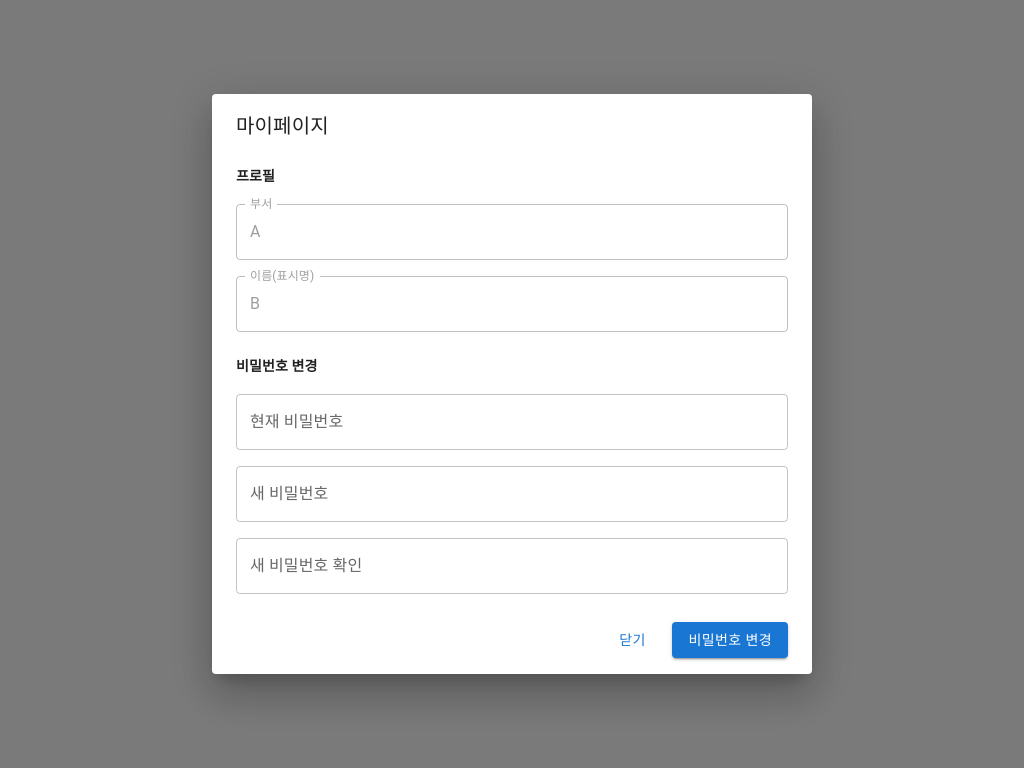
MyPageModal › client validation: mismatch confirm shows error
Type "old" into the password field labelled "현재 비밀번호" at (512, 422), box [236,394,788,450]
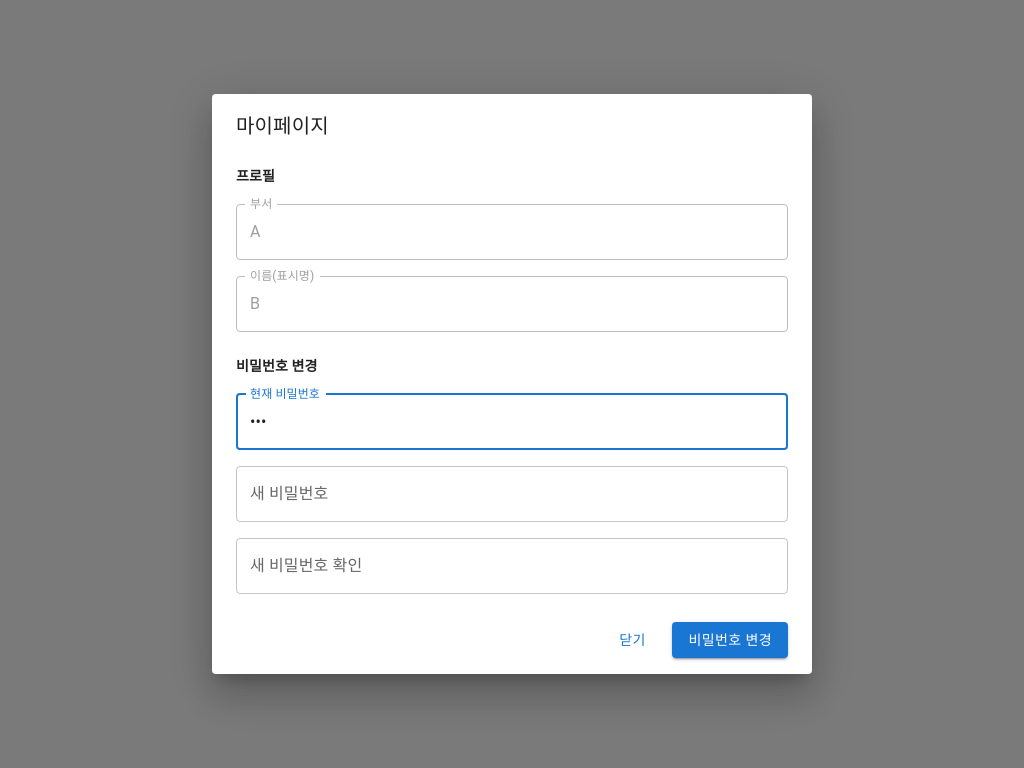
Type "new1" into the password field labelled "새 비밀번호" at (512, 494), box [236,466,788,522]
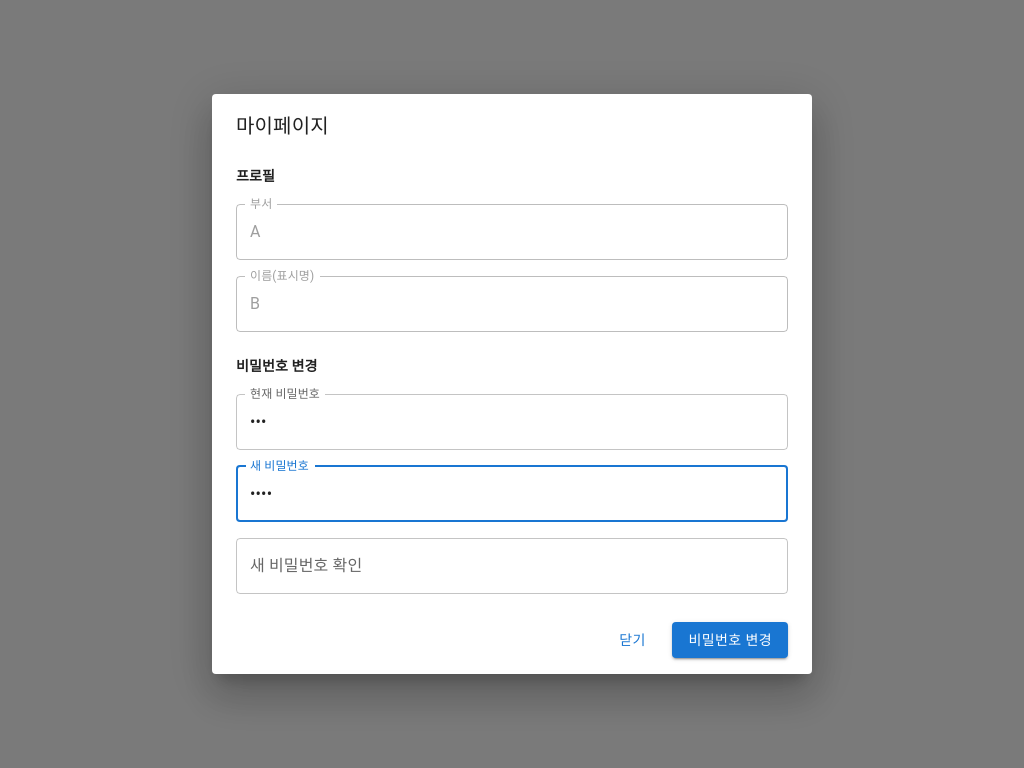
Type "new2" into the password field labelled "새 비밀번호 확인" at (512, 566), box [236,538,788,594]
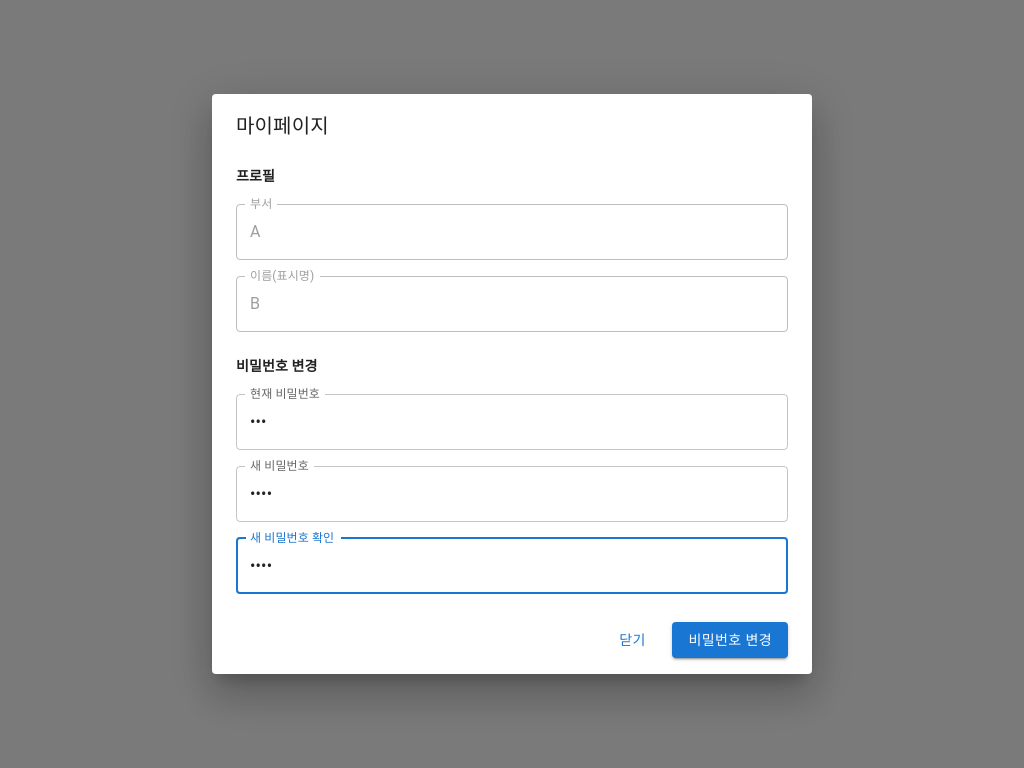
Click the button "비밀번호 변경" at (730, 640), box [672,622,788,658]
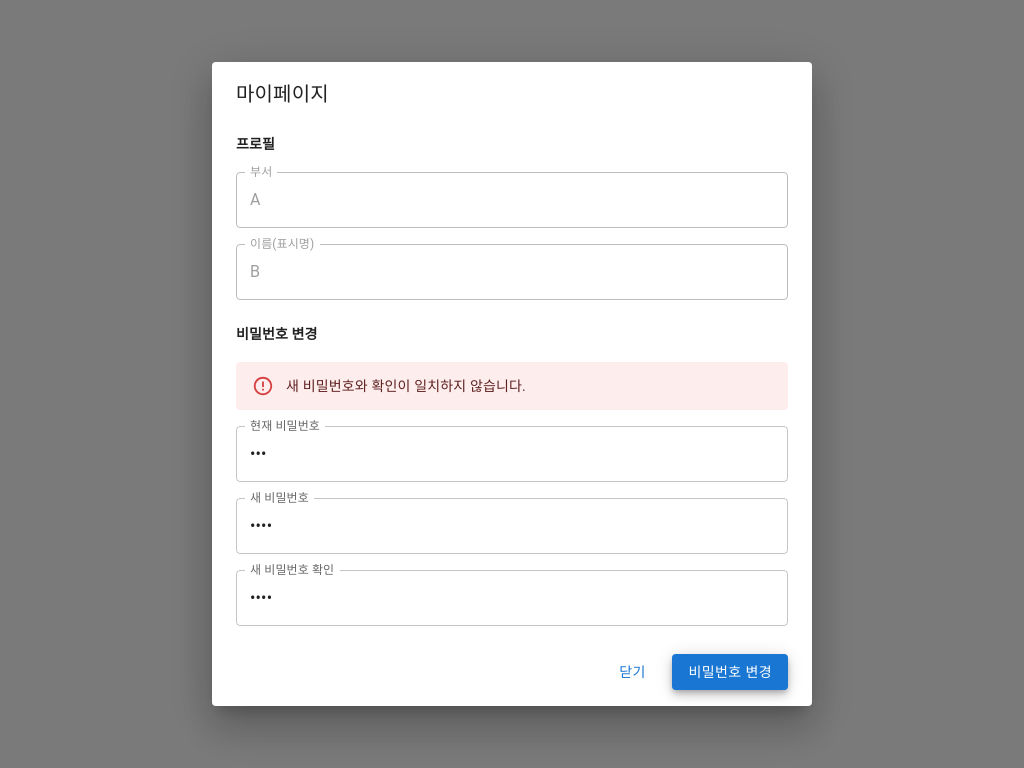
Now the text "새 비밀번호와 확인이 일치하지 않습니다." is shown, box [286,378,526,394]
